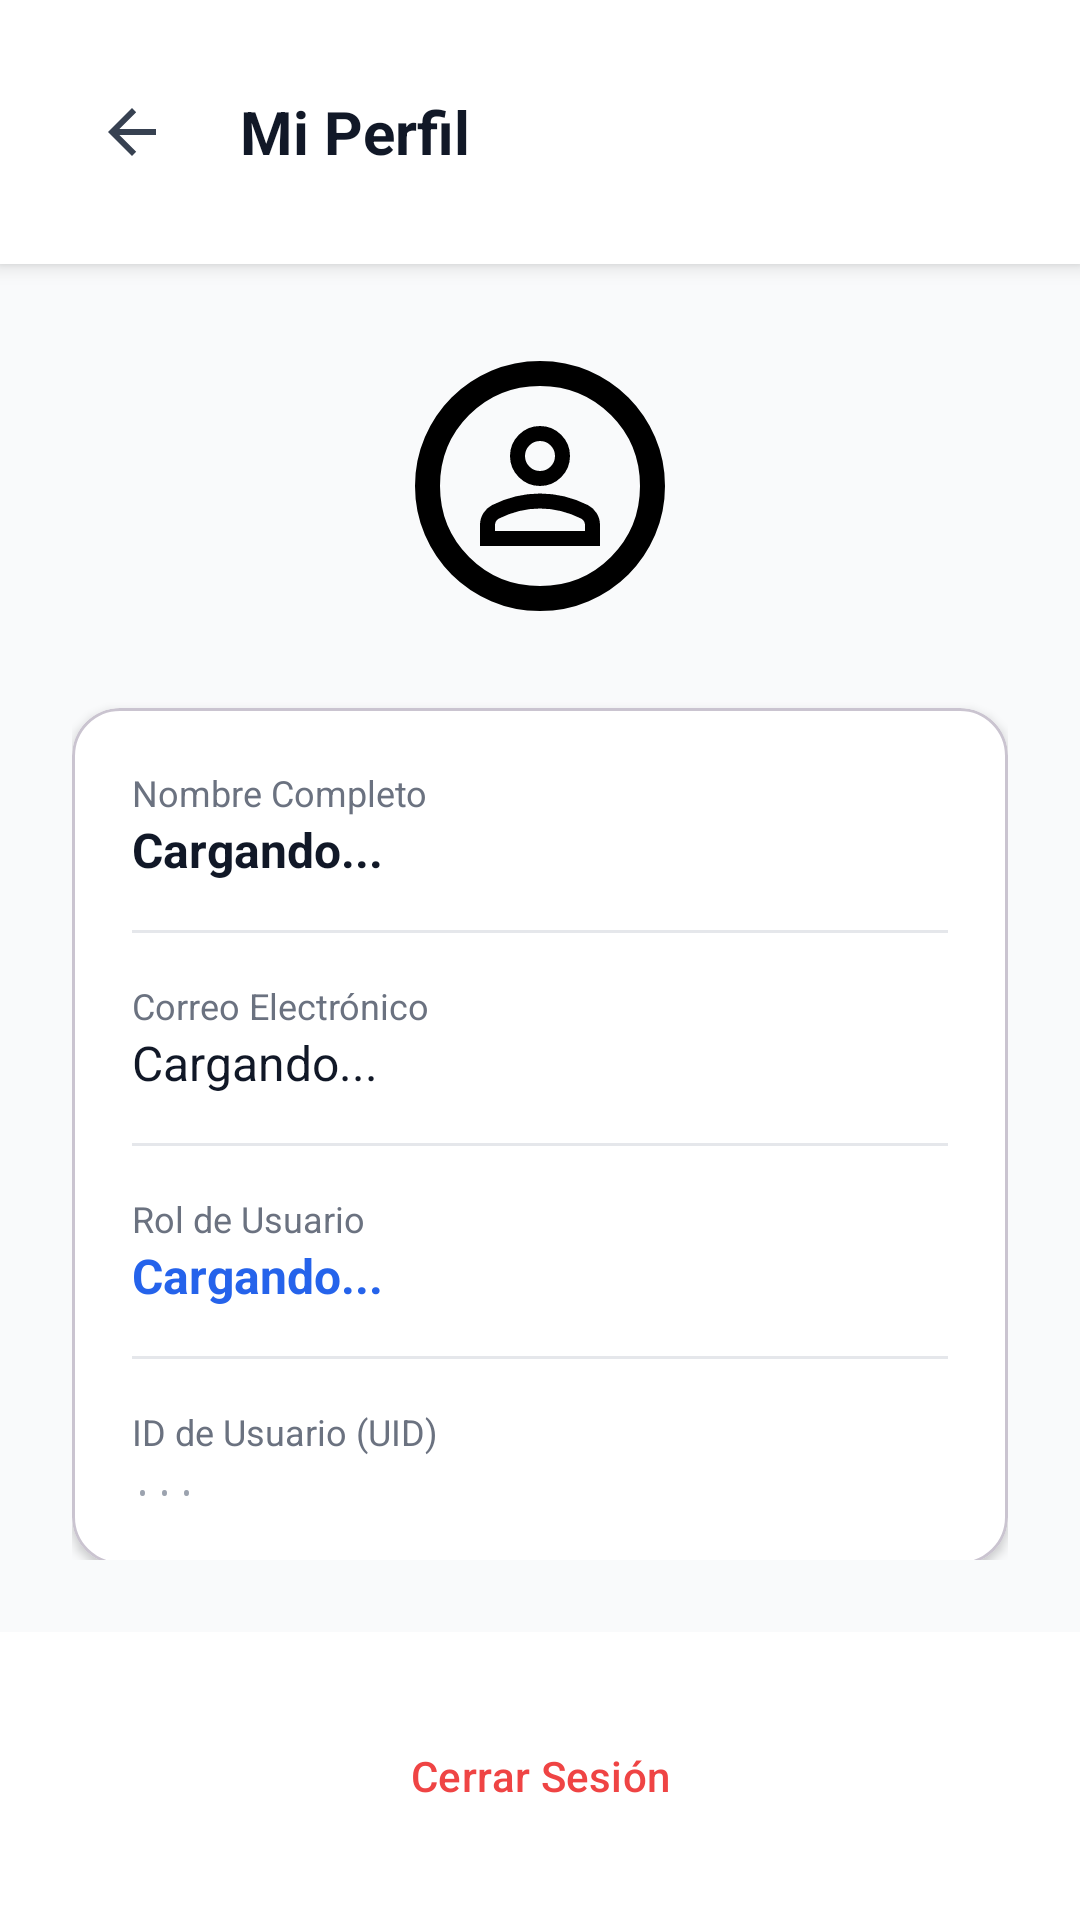

Screen size 1080px×1920px. Icon name, then its center in pixels as [x,y]:
perfil: [540,486]
